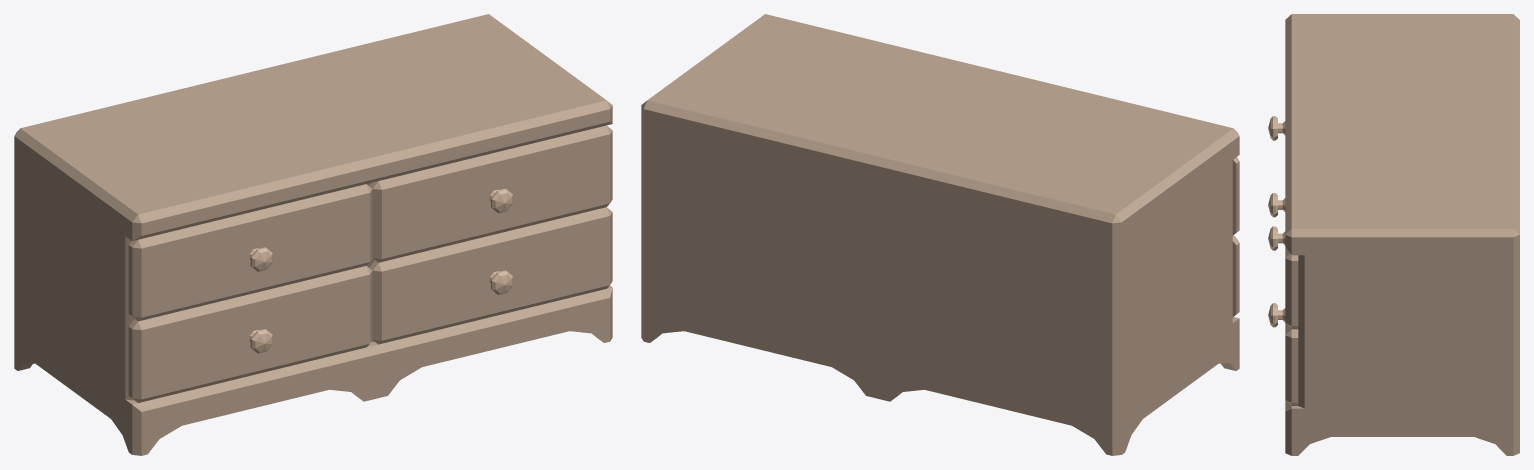
Rendered from Prop_Bedroom_Dresser_Double.fbx.
3 renders of one model, left to right at view 1: azimuth 30°, elevation 25°; view 2: azimuth 150°, elevation 25°; view 3: azimuth 270°, elevation 25°, orthographic. The views are drawn at different scales.
Visible parts, largest first — view 1: object4.005, object3.005, object5.003, object2.007, object1.009; view 2: object4.005, object3.005, object5.003; view 3: object4.005, object2.007, object1.009, object5.003, object3.005.
Boxes of the visible parts, bbox=[...] form: object4.005: bbox=[14, 14, 612, 455]; object3.005: bbox=[128, 266, 372, 402]; object5.003: bbox=[128, 184, 372, 321]; object2.007: bbox=[369, 207, 612, 344]; object1.009: bbox=[369, 125, 612, 262]; object4.005: bbox=[641, 14, 1239, 455]; object3.005: bbox=[1232, 235, 1239, 317]; object5.003: bbox=[1232, 157, 1239, 235]; object4.005: bbox=[1285, 14, 1519, 455]; object2.007: bbox=[1268, 303, 1298, 405]; object1.009: bbox=[1268, 226, 1298, 329]; object5.003: bbox=[1268, 116, 1285, 140]; object3.005: bbox=[1268, 193, 1285, 217].
Size of the model in its own units: 200 by 95 by 96.56.
